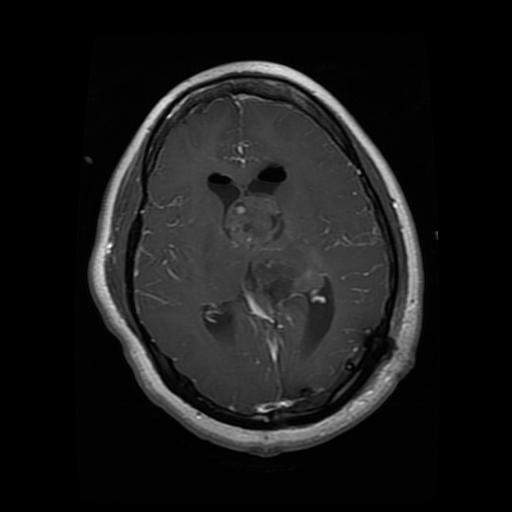Gliomia_tumour: (220, 190, 322, 297)
